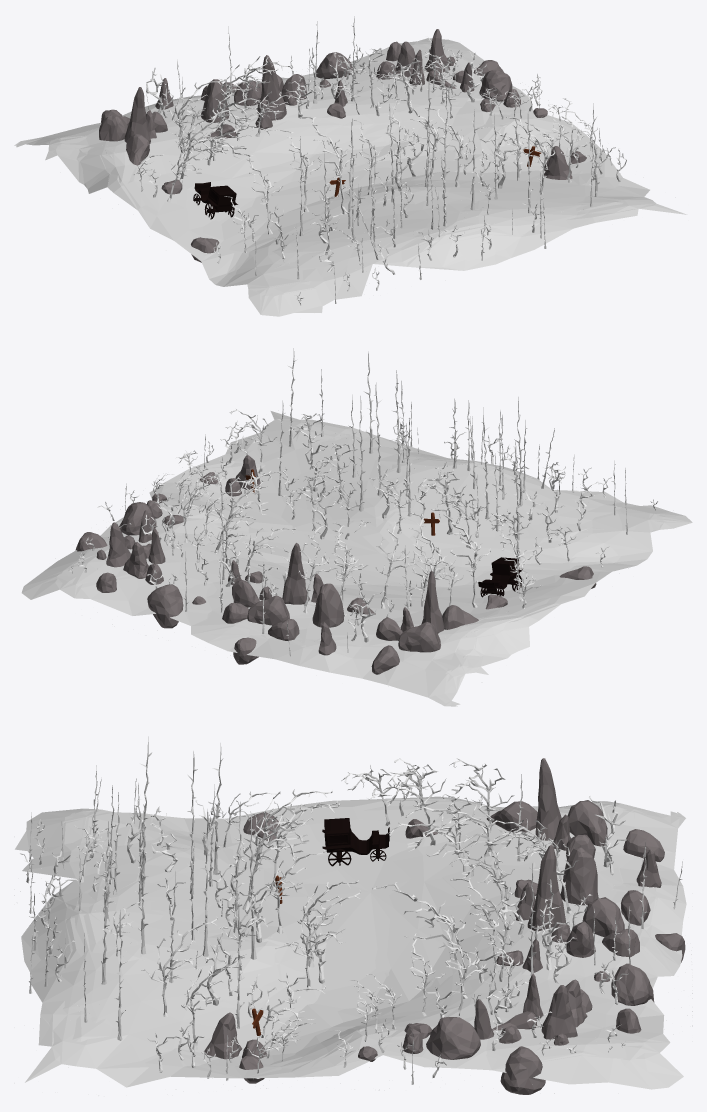
File: terrenoD.fbx
3 renders of one model, top to bottom at view 1: azimuth 30°, elevation 25°; view 2: azimuth 150°, elevation 25°; view 3: azimuth 270°, elevation 25°, orthographic. The views are drawn at different scales.
Parts seen in each view (by area): view 1: Plane, Arboles, PiedrasGrandes, Carromato; view 2: Plane, Arboles, PiedrasGrandes, Carromato; view 3: Plane, Arboles, PiedrasGrandes, Carromato.
Part boxes in pixels (left/top/right/bottom): Plane: left=14, top=38, right=687, bottom=316; Arboles: left=107, top=16, right=626, bottom=305; PiedrasGrandes: left=99, top=29, right=586, bottom=262; Carromato: left=193, top=182, right=237, bottom=219; Plane: left=21, top=411, right=692, bottom=706; Arboles: left=69, top=348, right=658, bottom=686; PiedrasGrandes: left=75, top=455, right=596, bottom=674; Carromato: left=478, top=557, right=522, bottom=597; Plane: left=15, top=796, right=686, bottom=1089; Arboles: left=14, top=736, right=692, bottom=1096; PiedrasGrandes: left=204, top=758, right=685, bottom=1094; Carromato: left=322, top=818, right=389, bottom=866.
Size of the model in its own units: 8060 by 2460 by 8039.
Materials: 5 (3 with a texture image).
